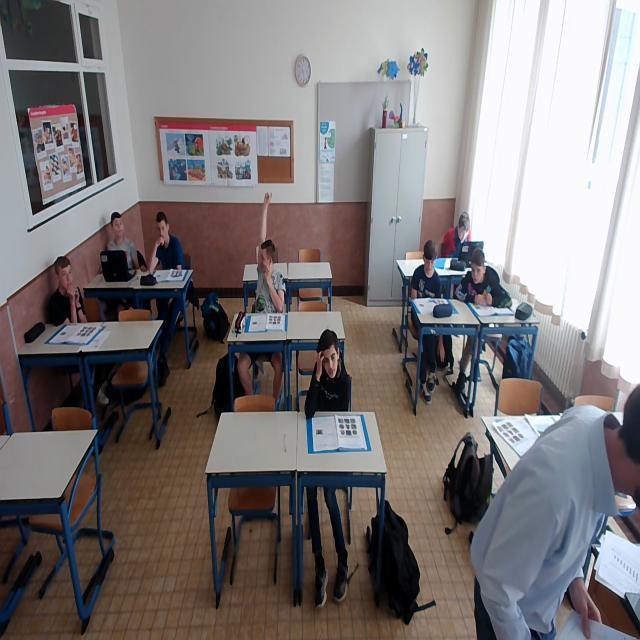Looking away: (472, 264, 483, 284), (459, 228, 468, 242)
Looking forward: (56, 263, 73, 290), (322, 352, 338, 378), (156, 222, 168, 242), (112, 220, 125, 238)
Raising hand: (253, 191, 288, 315)
Reading-writing: (408, 241, 458, 313)
